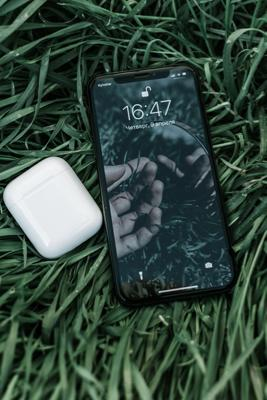Mobile Phone: (85, 63, 237, 307)
